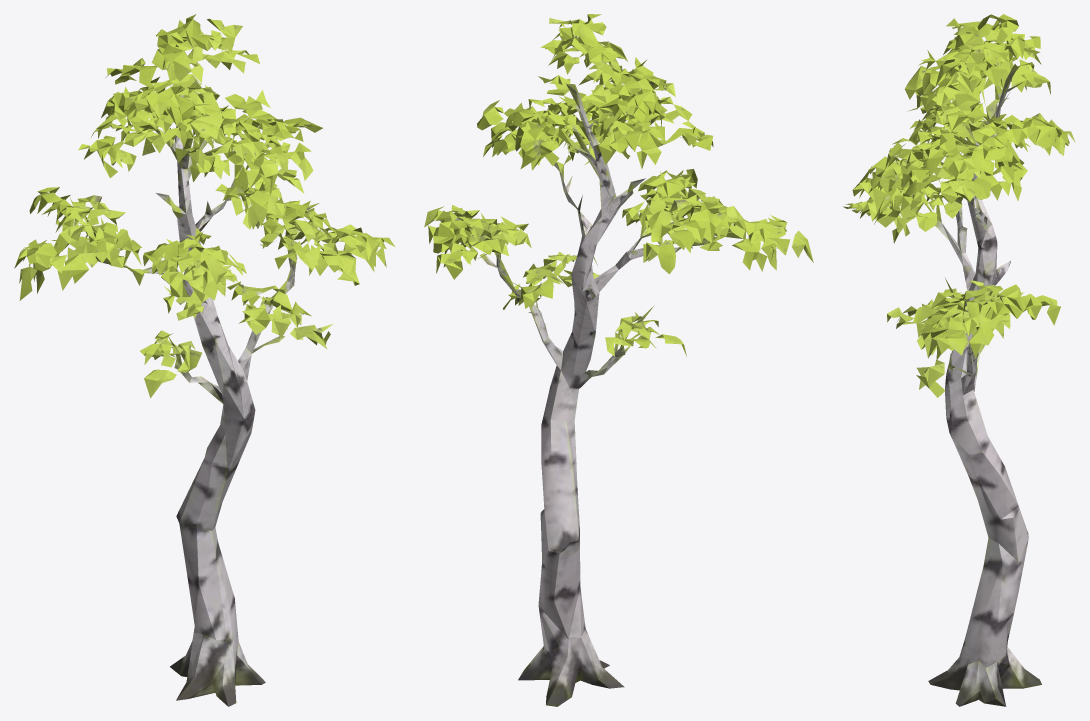
File: forest_birch.glb
3 views of the same model, side by side, from view 1: azimuth 30°, elevation 25°; view 2: azimuth 150°, elevation 25°; view 3: azimuth 270°, elevation 25° (orthographic).
Parts seen in each view (by area): view 1: output_unwrapped; view 2: output_unwrapped; view 3: output_unwrapped.
Part boxes in pixels (x1,y1,x2,y2): output_unwrapped: (14,14,395,706); output_unwrapped: (424,14,813,706); output_unwrapped: (843,14,1075,706).
Bounding box in the file's own units: 1.11 × 1.86 × 0.5906.
1 material, 1 textured.
